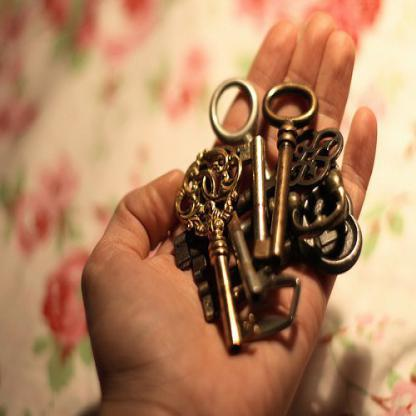keys: (171, 79, 365, 357)
